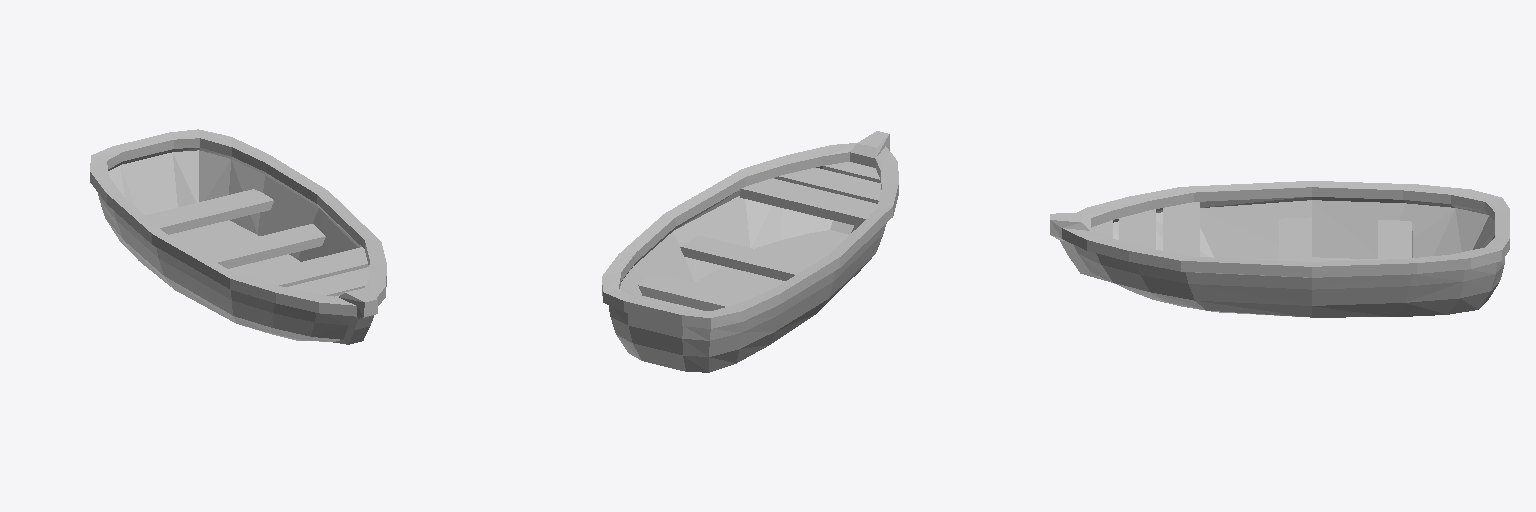
Rendered from rowboat.obj.
The picture shows the model from 3 angles: view 1: azimuth 30°, elevation 25°; view 2: azimuth 150°, elevation 25°; view 3: azimuth 270°, elevation 25°; orthographic projection.
Parts seen in each view (by area): view 1: rowboat_Cube.109; view 2: rowboat_Cube.109; view 3: rowboat_Cube.109.
Part boxes in pixels (x1,y1,x2,y2): rowboat_Cube.109: (90, 129, 386, 344); rowboat_Cube.109: (602, 131, 898, 372); rowboat_Cube.109: (1050, 181, 1509, 317).
Size of the model in its own units: 1.46 by 0.6202 by 3.3.